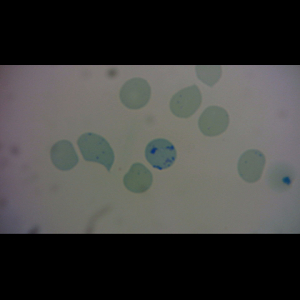aggregate reticulocyte: (144, 138, 178, 170)
erythrocyte: (118, 77, 152, 111), (49, 139, 81, 172), (122, 162, 153, 195)
punctate reticulocyte: (76, 131, 116, 174), (168, 84, 203, 119), (237, 149, 268, 184), (197, 105, 230, 137)
